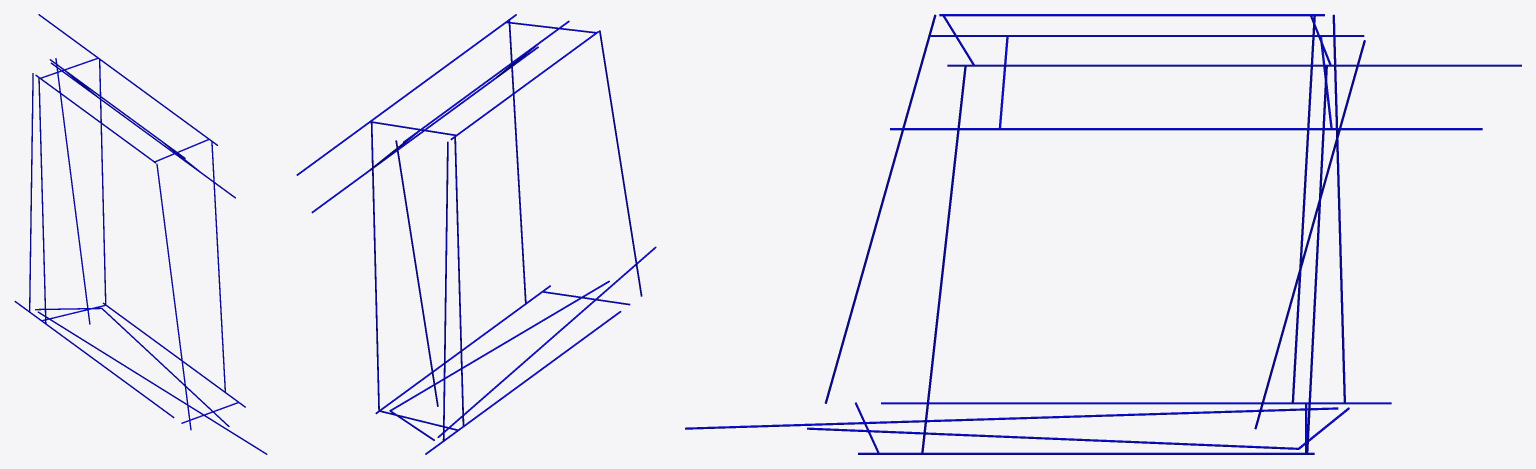
Rendered from corrected_3d_strokes.glb.
The picture shows the model from 3 angles, left to right: view 1: azimuth 30°, elevation 25°; view 2: azimuth 150°, elevation 25°; view 3: azimuth 270°, elevation 25°; orthographic projection. The views are drawn at different scales.
Visible parts, largest first — view 1: world; view 2: world; view 3: world.
Part boxes in pixels (x1,y1,x2,y2): world: [14, 14, 267, 454]; world: [296, 14, 656, 454]; world: [685, 14, 1521, 454].
Size of the model in its own units: 2.07 by 7.33 by 14.23.
